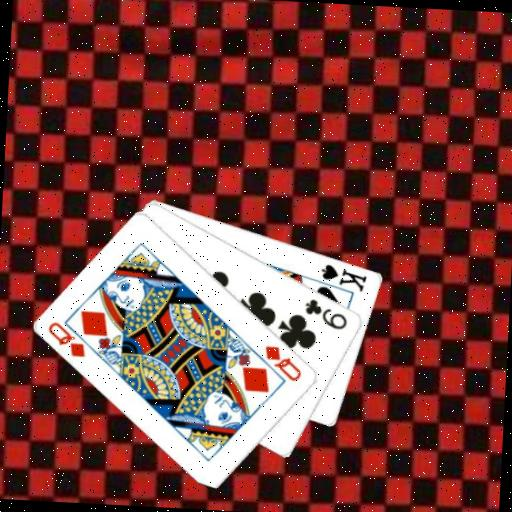9C: (301, 295, 351, 331)
KS: (318, 260, 370, 293)
QD: (44, 318, 90, 360), (261, 342, 305, 383)
